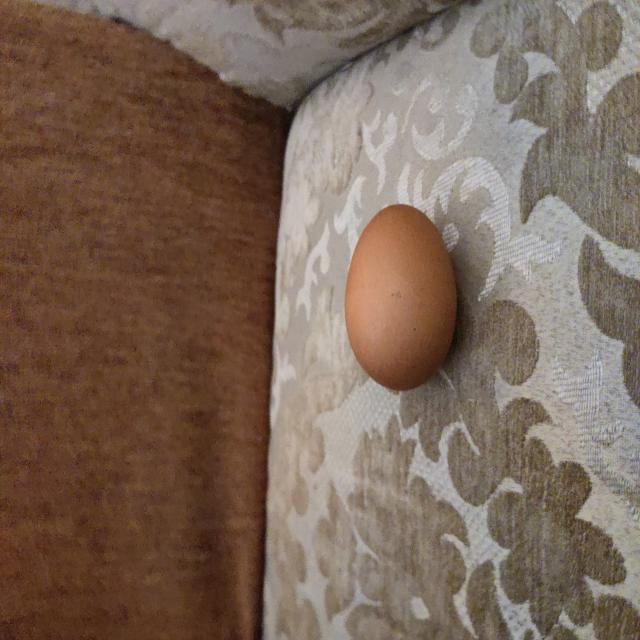Egg: (334, 204, 462, 396)
